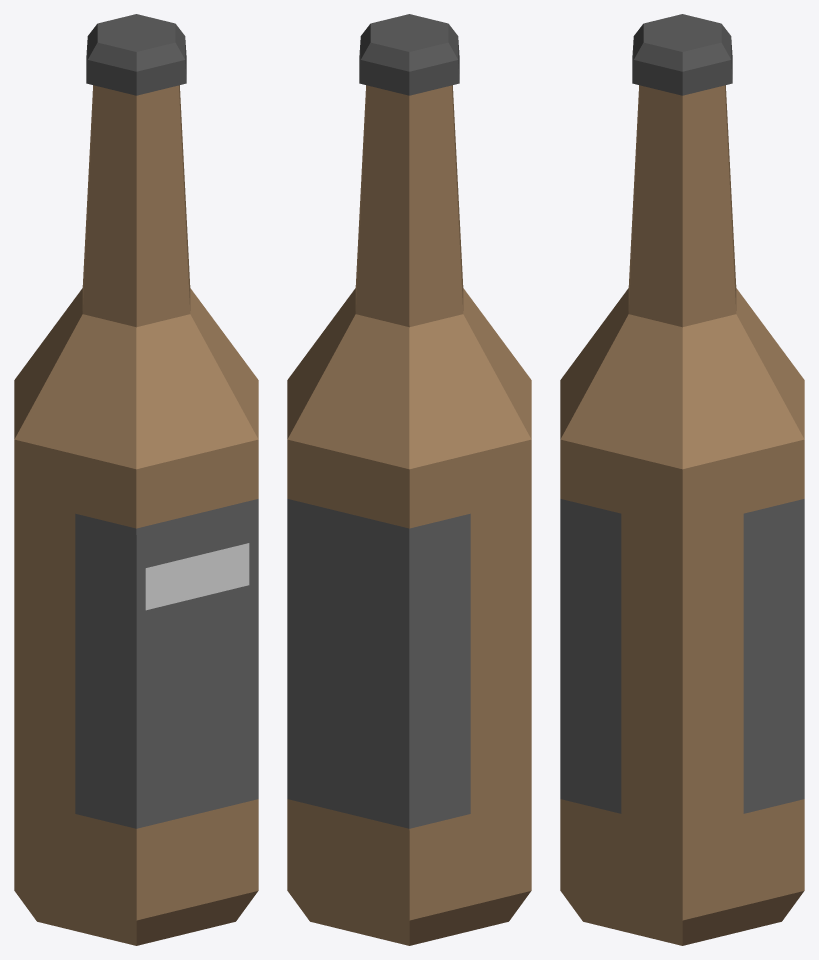
The model's file is alcohol_1.fbx.
The picture shows the model from 3 angles, left to right: view 1: azimuth 30°, elevation 25°; view 2: azimuth 150°, elevation 25°; view 3: azimuth 270°, elevation 25°; orthographic projection.
Parts seen in each view (by area): view 1: Cylinder; view 2: Cylinder; view 3: Cylinder.
Part boxes in pixels (left/top/right/bottom): Cylinder: left=14, top=14, right=258, bottom=945; Cylinder: left=287, top=14, right=531, bottom=945; Cylinder: left=560, top=14, right=804, bottom=945.
Size of the model in its own units: 13.7 by 46.38 by 11.87.
